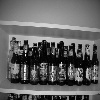beer: (22, 40, 29, 86)
